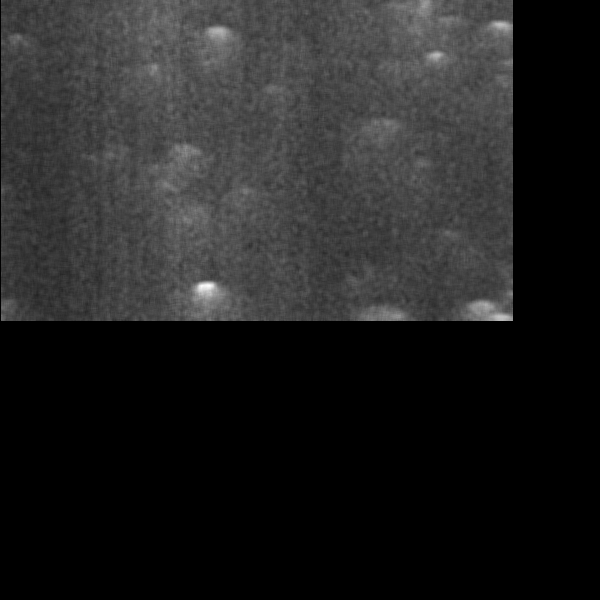spark: (187, 23, 246, 78), (159, 138, 205, 187), (392, 1, 454, 33), (337, 307, 419, 328), (359, 114, 418, 142), (182, 276, 224, 315), (484, 16, 515, 53), (161, 210, 212, 231), (422, 48, 450, 71), (492, 69, 517, 92), (497, 55, 513, 68)
